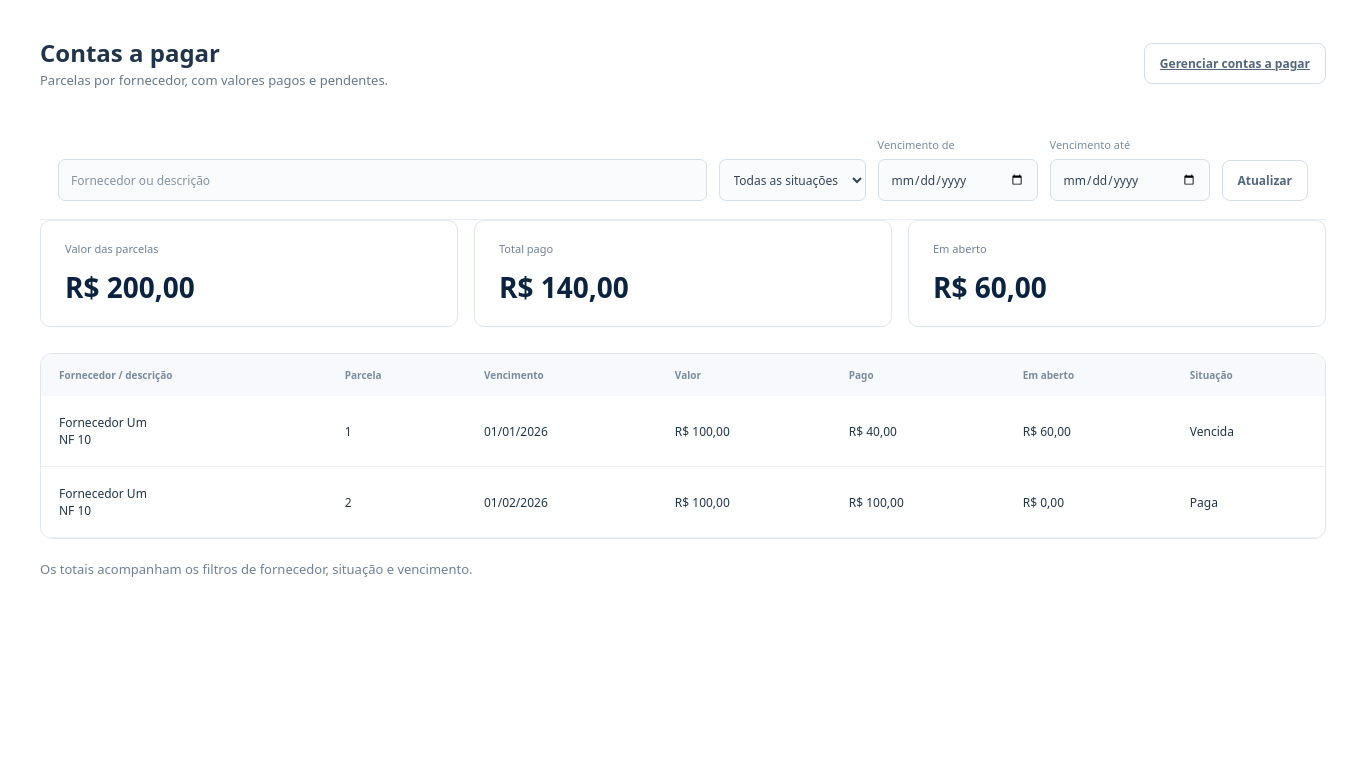
Test: uses the remaining installment amount and filters paid installments
The width and height of the screenshot is (1366, 768).
Expected: the text "Paga" is shown, x1=1172 y1=467 x2=1325 y2=538
Expected: the element named "Totais da seleção" shows "60,00", x1=933 y1=268 x2=1047 y2=306
Select "Pagas" in the dropdown named "Filtrar situação do resumo". click: (792, 180)
box: x1=718 y1=159 x2=866 y2=201
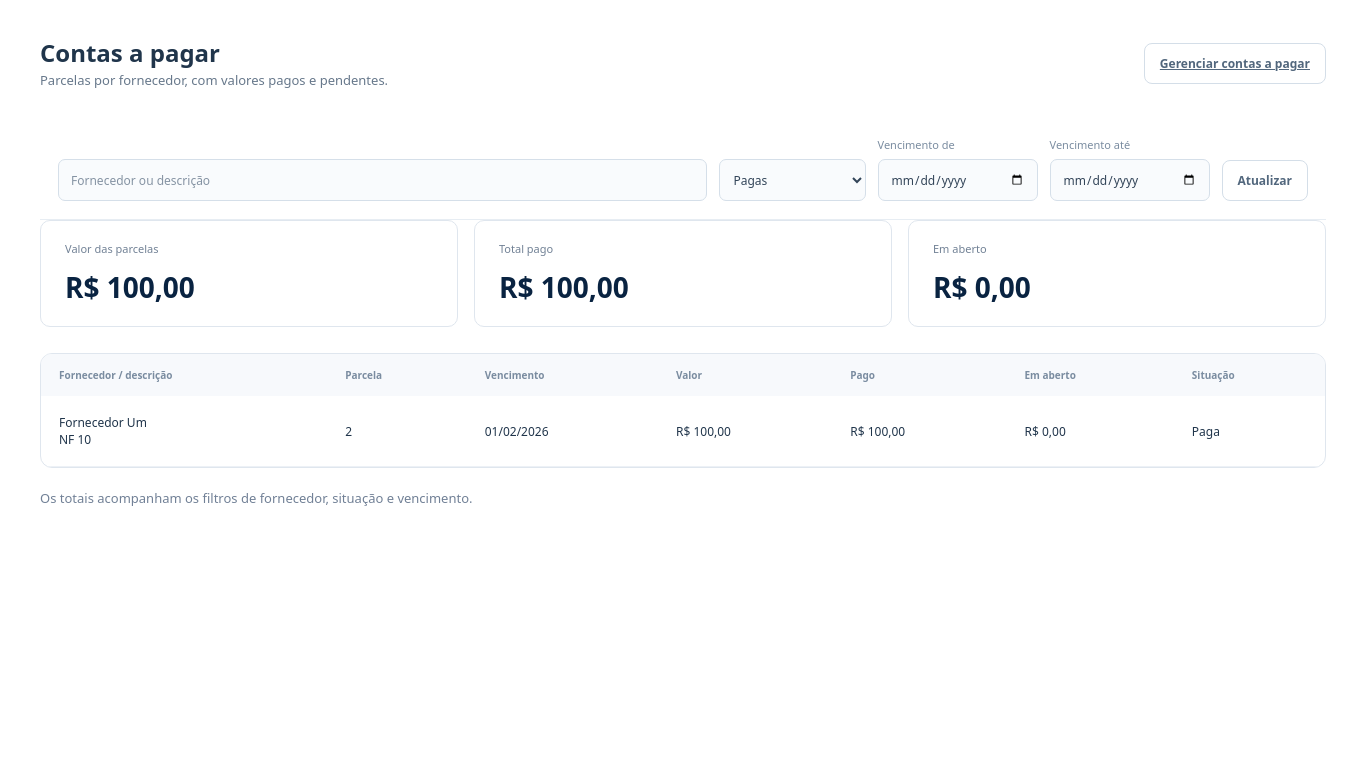
Expected: the element named "Totais da seleção" shows "0,00", x1=933 y1=268 x2=1031 y2=306
Expected: the number of rows is 2, x1=41 y1=354 x2=1325 y2=396; x1=41 y1=396 x2=1325 y2=467
